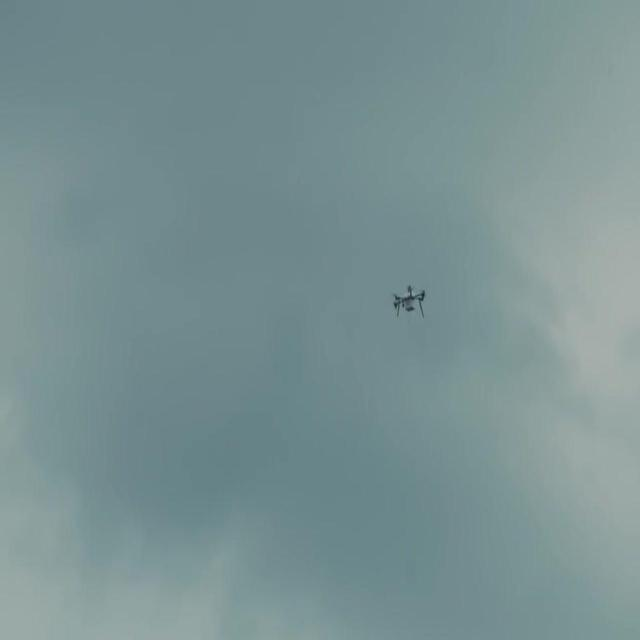drone: (388, 281, 429, 320)
